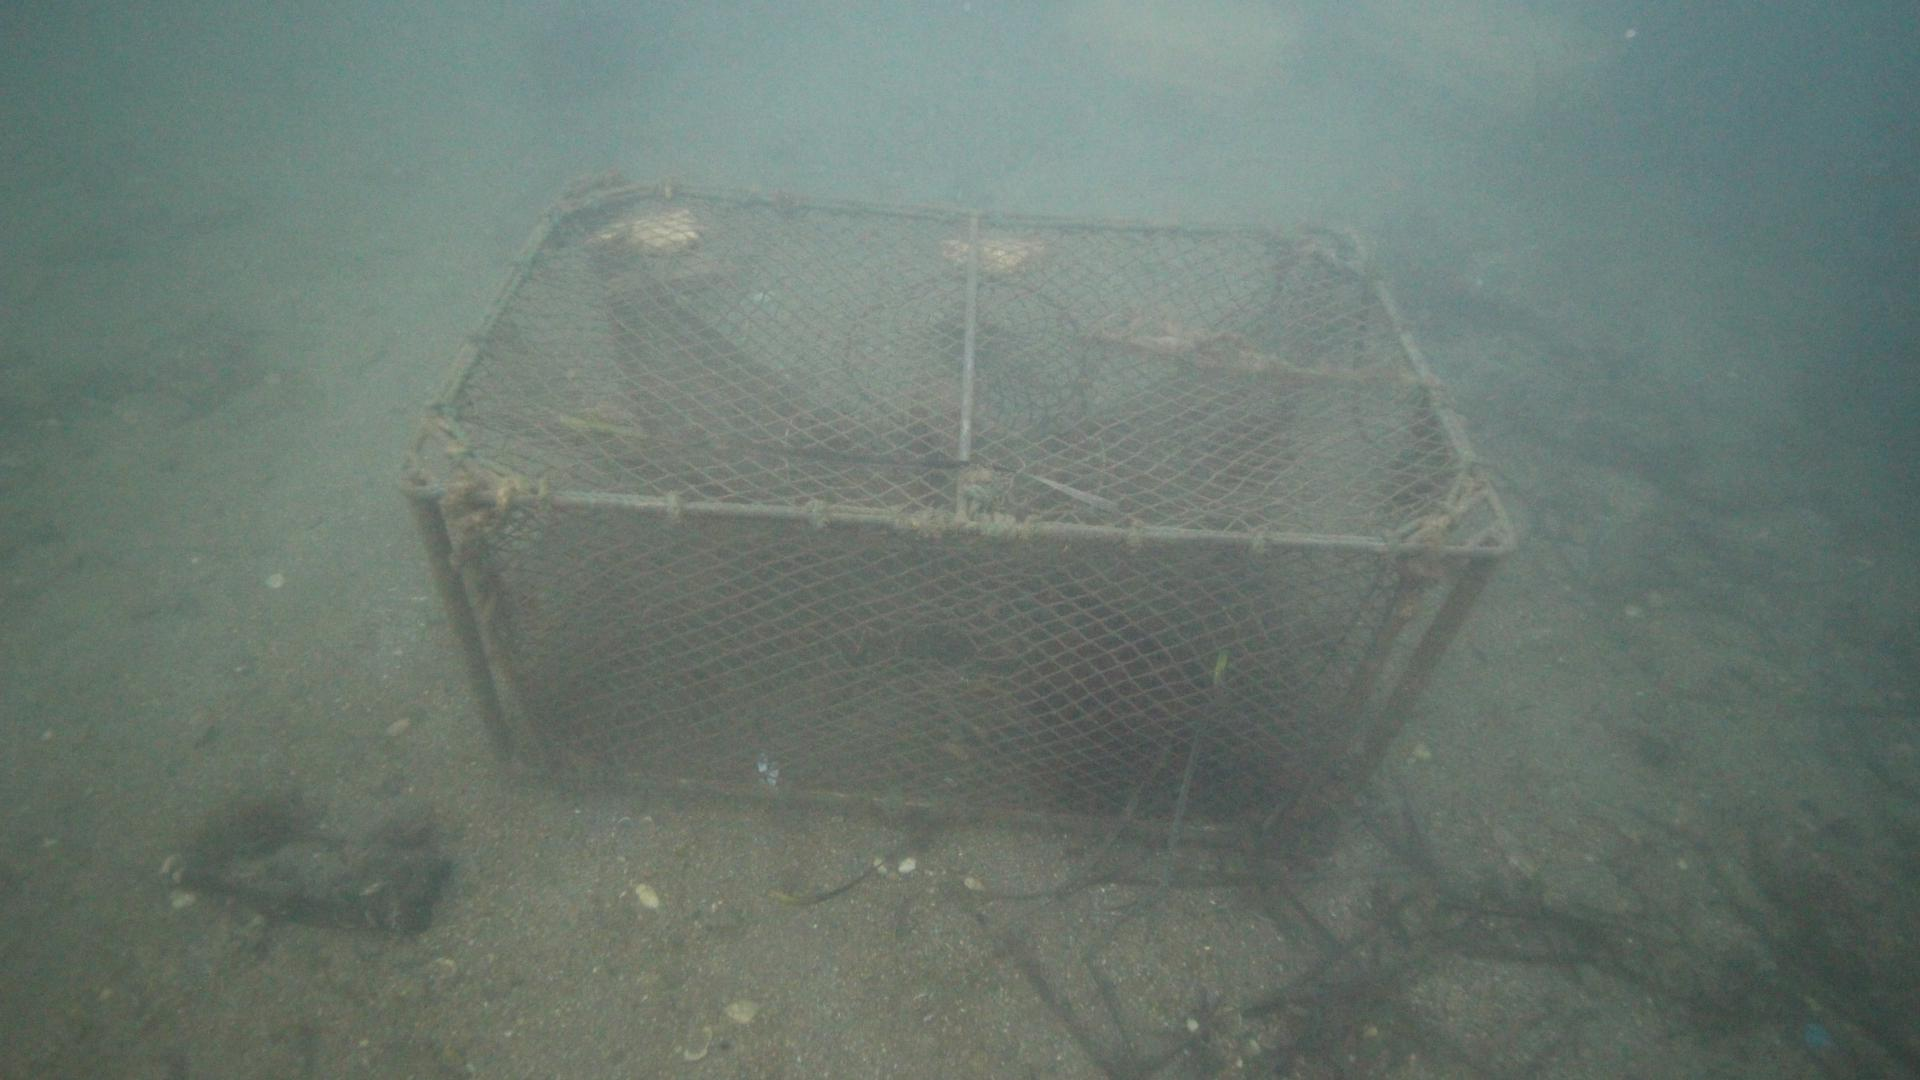rectangular fish trap: (389, 165, 1520, 866)
